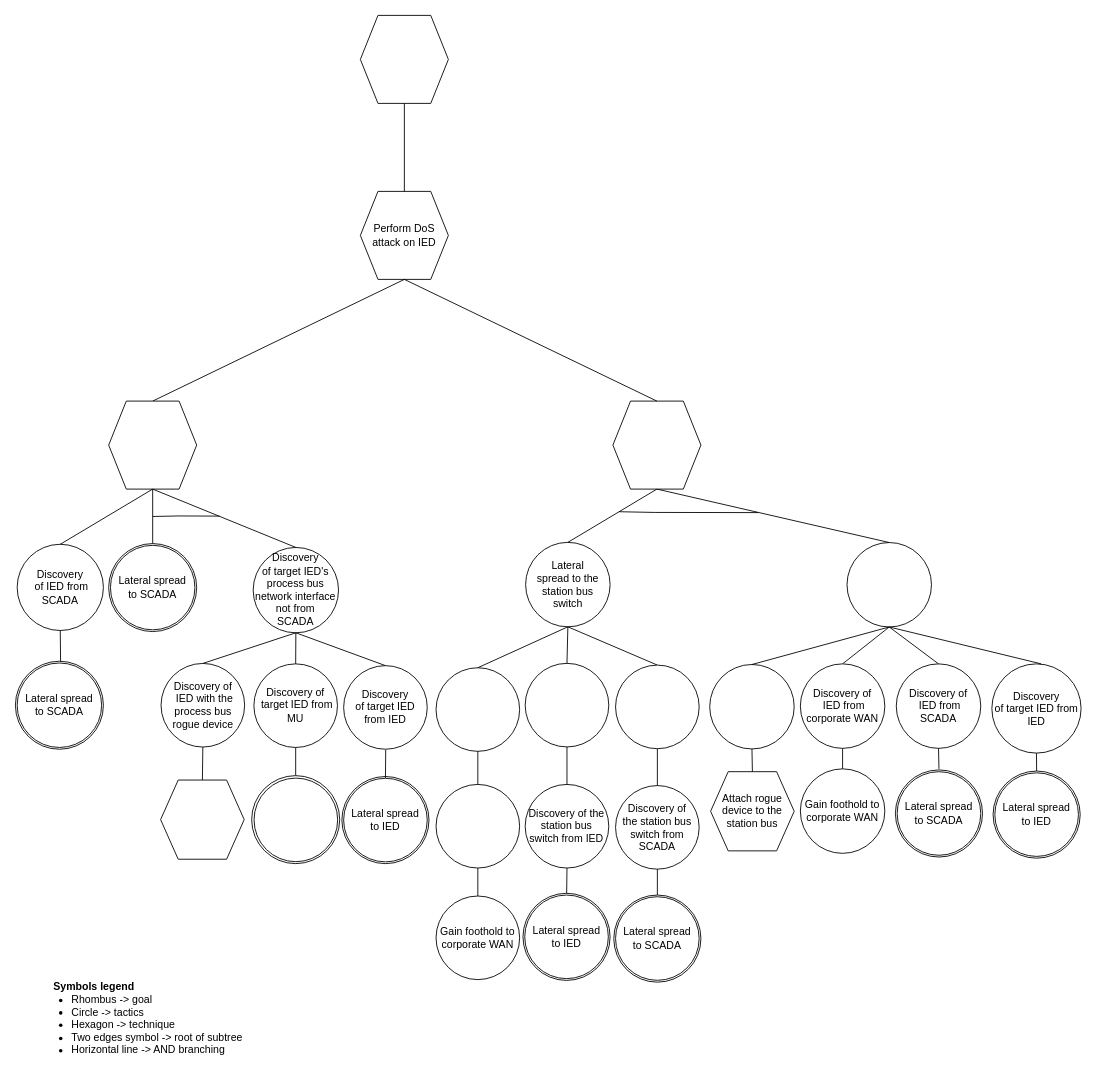
The diagram is 1096 pixels wide and 1088 high, and some of its shapes have lost their labels. Here are the shapes that lost their labels. From the top down, the box of each, then its label:
(359, 15, 448, 103): Perform DoS attack
(108, 400, 197, 489): Perform DoS attack on the target IED from SCADA
(612, 400, 701, 489): Perform DoS attack on IED from from station bus switch
(846, 542, 931, 627): Discovery of IED's station bus network intarface
(435, 667, 520, 751): Lateral spread to the station bus switch from corporate WAN
(524, 662, 609, 747): Lateral spread to the station bus switch from IED
(615, 664, 699, 749): Lateral spread to the station bus switch from SCADA
(709, 664, 794, 749): Discovery of IED with station bus rogue device
(160, 779, 244, 859): Attach rogue device to the process bus
(253, 777, 338, 862): Lateral spread to MU
(435, 784, 520, 868): Discovery of the station bus switch from corporate WAN
